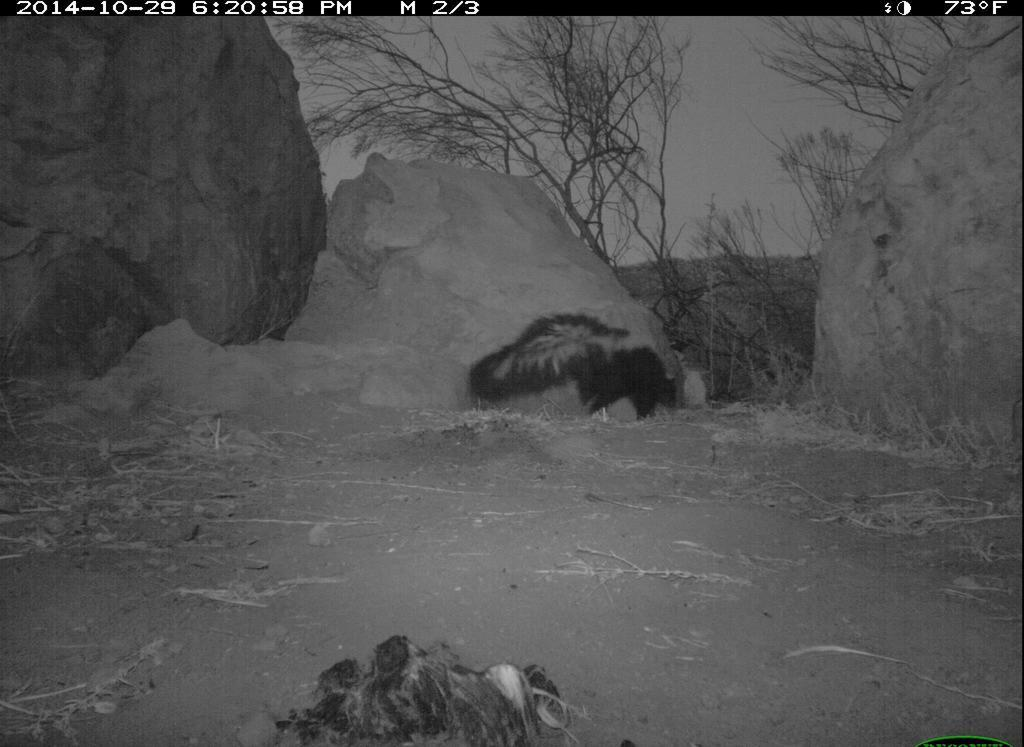skunk: (459, 296, 694, 437)
